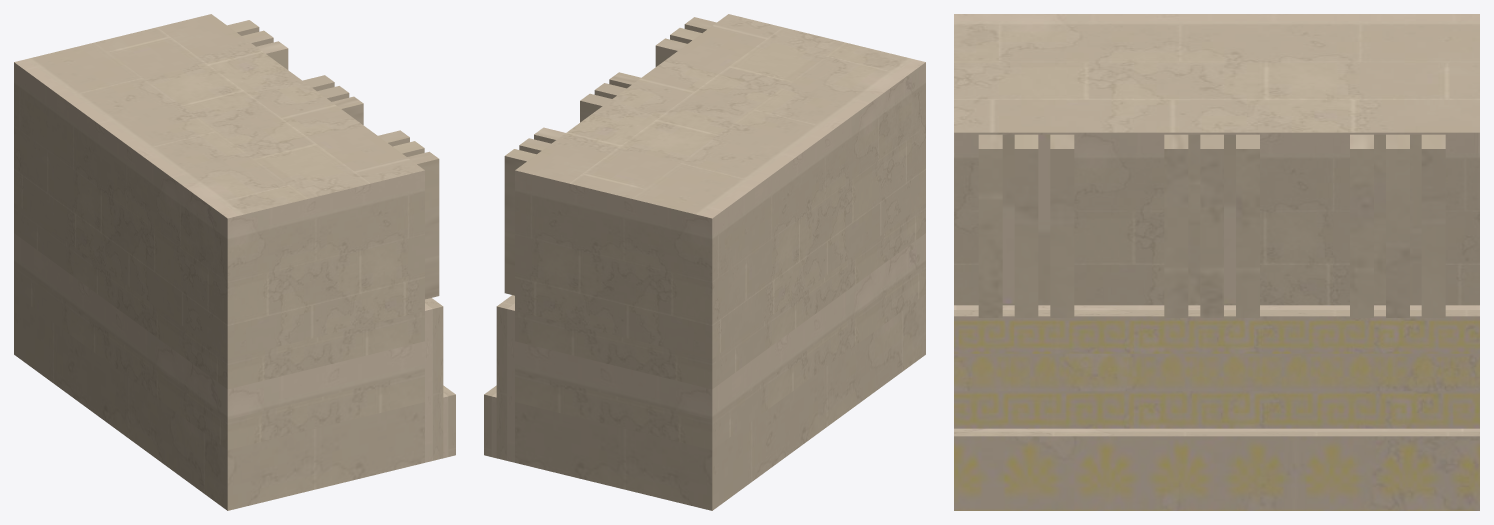
Rendered from SM_temple_top.glb.
3 views of the same model, side by side, from view 1: azimuth 30°, elevation 25°; view 2: azimuth 150°, elevation 25°; view 3: azimuth 270°, elevation 25° (orthographic). The views are drawn at different scales.
Visible parts, largest first — view 1: SM_temple_top; view 2: SM_temple_top; view 3: SM_temple_top.
Boxes of the visible parts, x1=… form: SM_temple_top: x1=14, y1=14, x2=455, y2=510; SM_temple_top: x1=484, y1=14, x2=925, y2=510; SM_temple_top: x1=954, y1=14, x2=1479, y2=510.
Size of the model in its own units: 2.78 by 3.4 by 4.5.
1 material, 1 textured.
